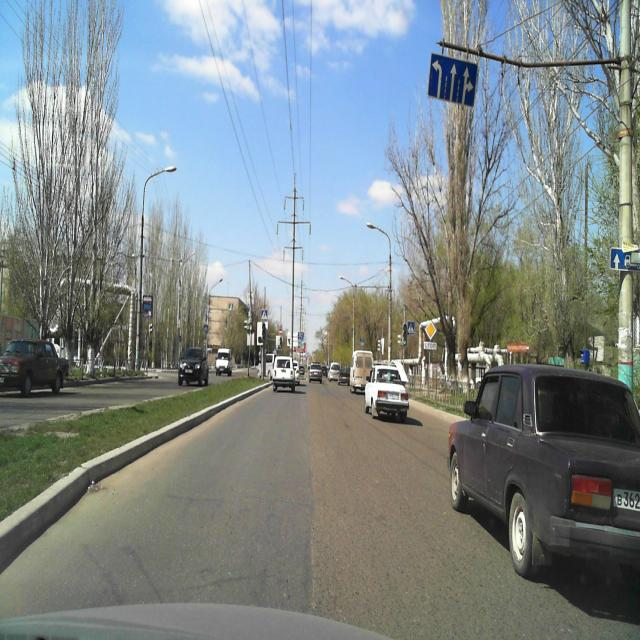road sign: (428, 51, 477, 105), (609, 246, 640, 271), (424, 319, 437, 340), (406, 320, 415, 335), (261, 308, 268, 321)
